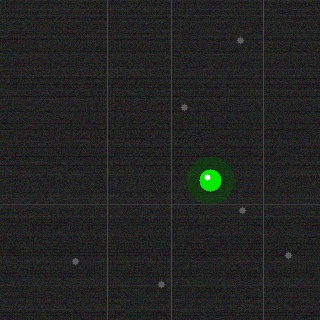green_normal: (197, 167, 223, 193)
